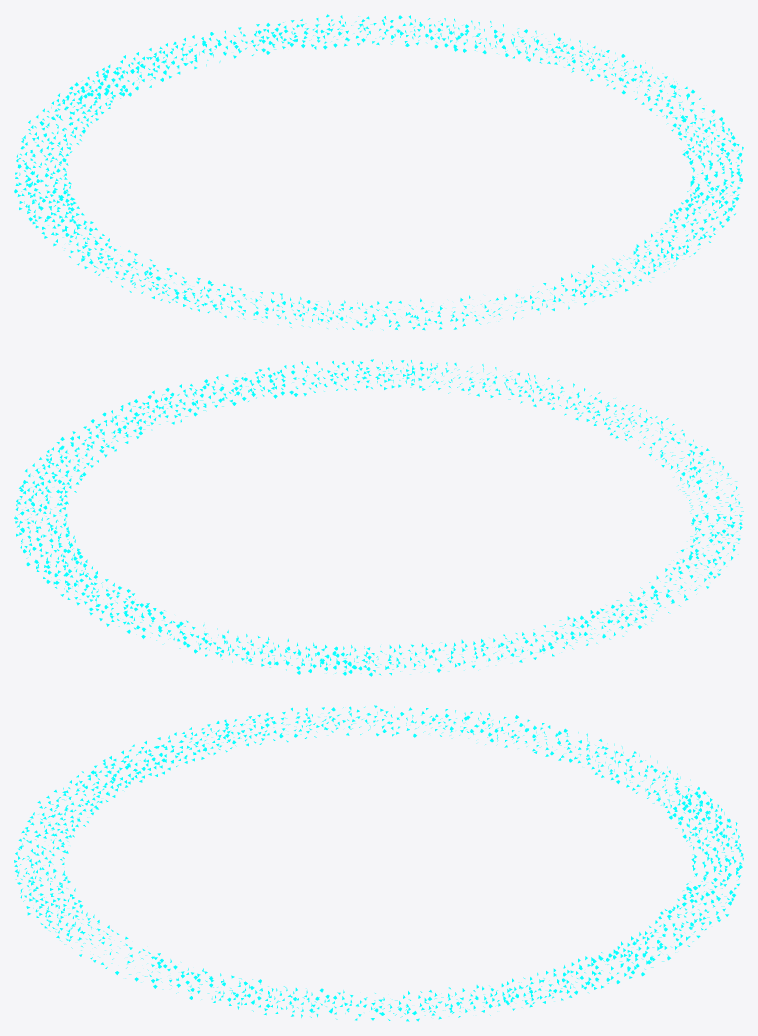
Rendered from circlePlatformTrial8.fbx.
3 renders of one model, top to bottom at view 1: azimuth 30°, elevation 25°; view 2: azimuth 150°, elevation 25°; view 3: azimuth 270°, elevation 25°, orthographic.
Parts seen in each view (by area): view 1: Sphere.501; view 2: Sphere.501; view 3: Sphere.501.
Boxes of the visible parts, x1,y1,x2,y2 form: Sphere.501: [14, 14, 743, 330]; Sphere.501: [14, 359, 743, 676]; Sphere.501: [14, 705, 743, 1021].
Bounding box in the file's own units: 301 × 5.17 × 301.
